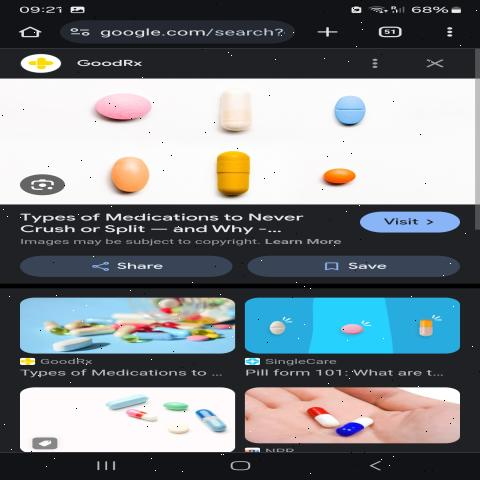Pill: (198, 84, 282, 137), (89, 149, 171, 201), (196, 143, 272, 199), (313, 85, 396, 135), (80, 87, 163, 129)
